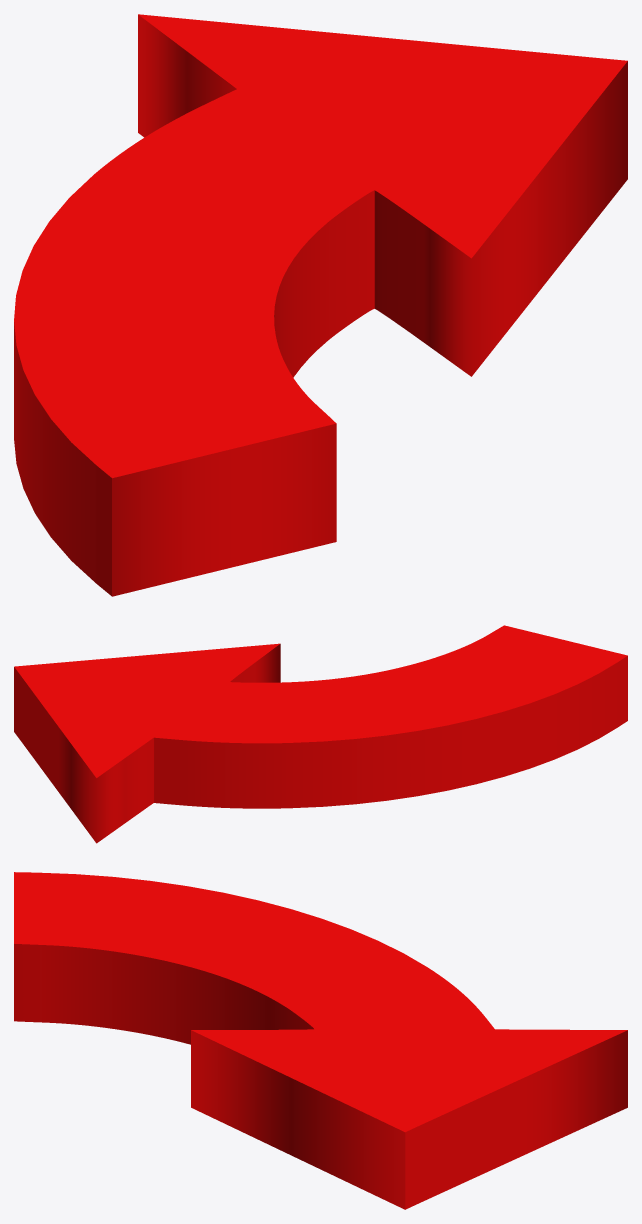
The model's file is Arrow.glb.
The picture shows the model from 3 angles, top to bottom: view 1: azimuth 30°, elevation 25°; view 2: azimuth 150°, elevation 25°; view 3: azimuth 270°, elevation 25°; orthographic projection. The views are drawn at different scales.
Parts seen in each view (by area): view 1: Arrow; view 2: Arrow; view 3: Arrow.
Boxes of the visible parts, box(x1,y1,x2,y2) form: Arrow: box(14, 14, 627, 596); Arrow: box(14, 625, 627, 843); Arrow: box(14, 872, 627, 1209).
Bounding box in the file's own units: 2.88 × 0.3999 × 2.87.
